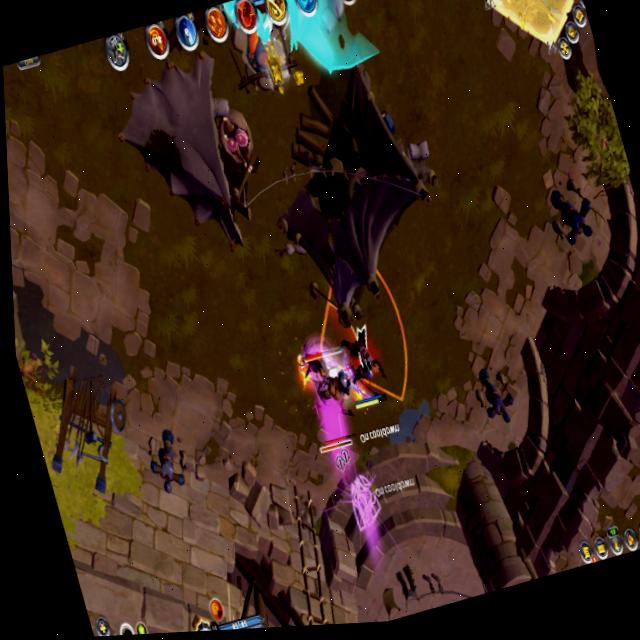ore: (287, 332, 367, 469)
red: (332, 321, 390, 414)
silver: (302, 262, 422, 419)
